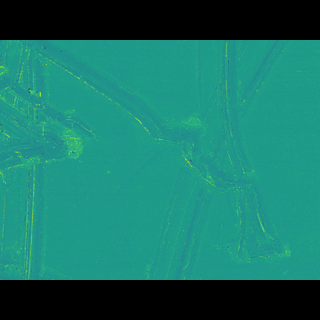Loch: (0, 69, 297, 242)
